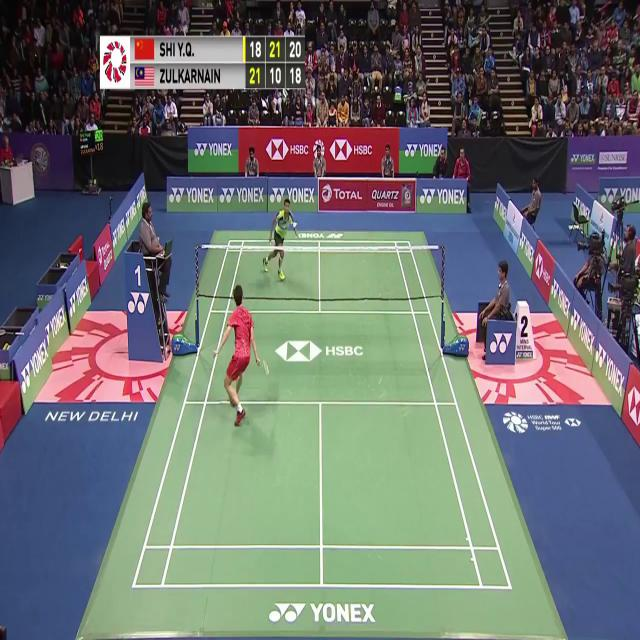Shuttlecock: (292, 218, 299, 230)
